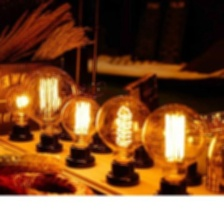light_bulb: (140, 101, 210, 186), (15, 63, 78, 145), (93, 93, 152, 168), (55, 95, 104, 151), (1, 81, 41, 144)
